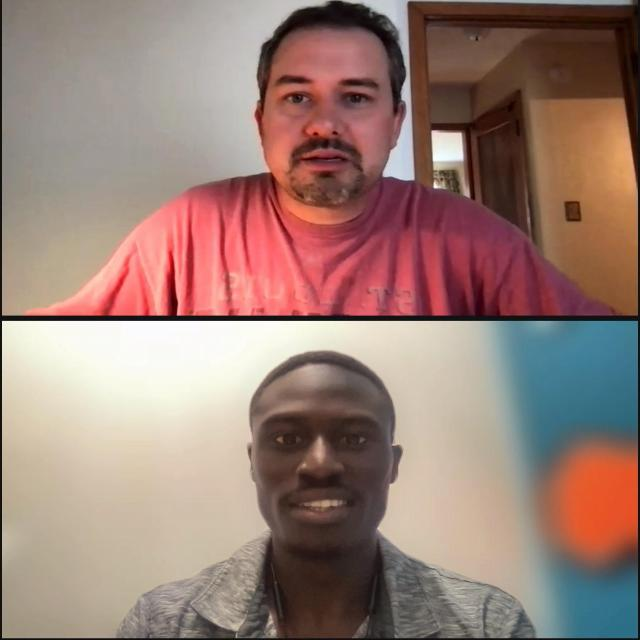face: (247, 352, 400, 558), (254, 7, 405, 208)
